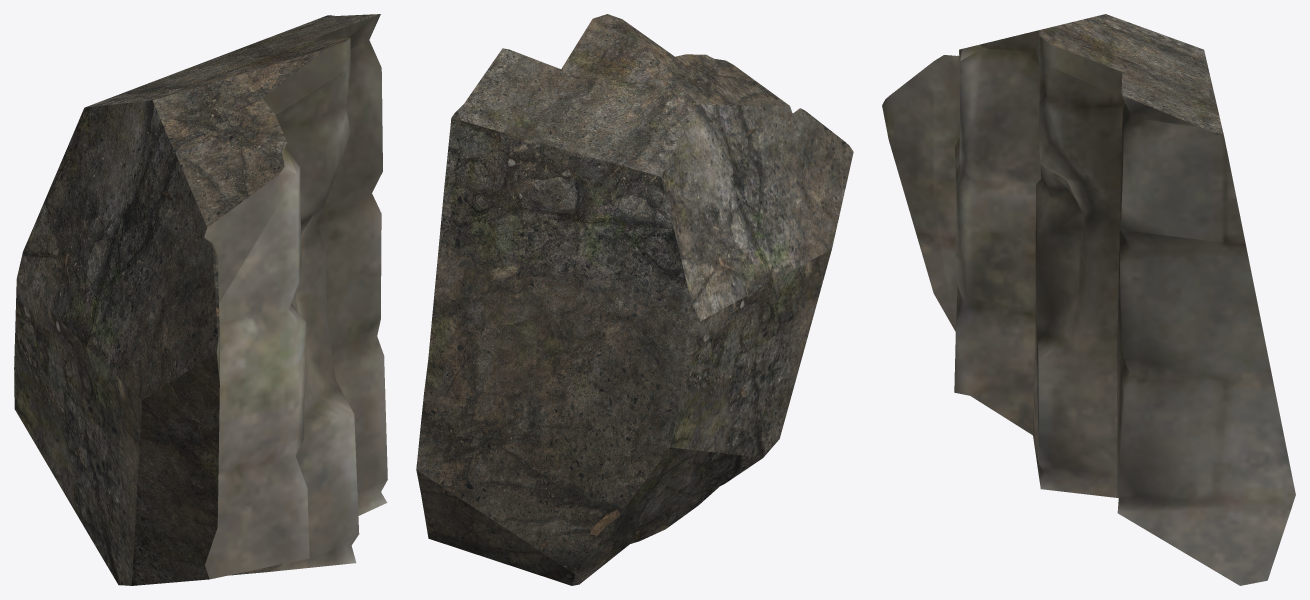
Rendered from ColumnDamage08_1.fbx.
The picture shows the model from 3 angles, left to right: view 1: azimuth 30°, elevation 25°; view 2: azimuth 150°, elevation 25°; view 3: azimuth 270°, elevation 25°; orthographic projection. The views are drawn at different scales.
Parts seen in each view (by area): view 1: ColumnDamage08_DM.001; view 2: ColumnDamage08_DM.001; view 3: ColumnDamage08_DM.001.
Boxes of the visible parts, box(x1,y1,x2,y2) form: ColumnDamage08_DM.001: box(14, 14, 387, 585); ColumnDamage08_DM.001: box(416, 14, 853, 585); ColumnDamage08_DM.001: box(882, 14, 1295, 585).
Size of the model in its own units: 127 by 215 by 158.
2 materials, 2 textured.
